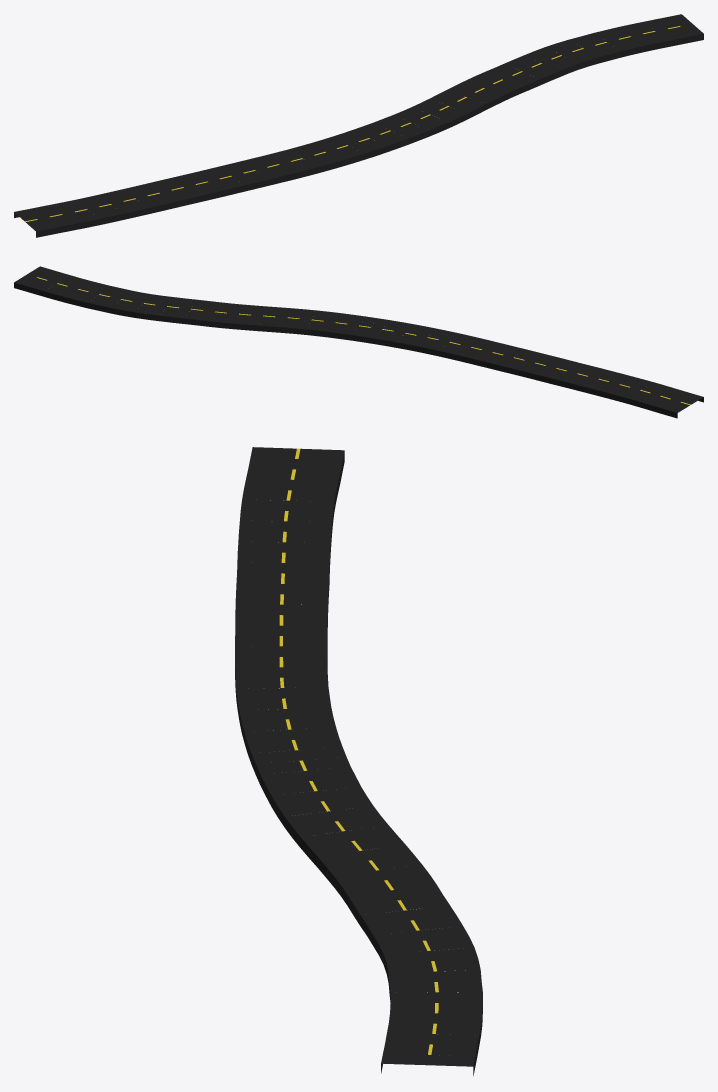
File: Road3.fbx
The picture shows the model from 3 angles, top to bottom: view 1: azimuth 30°, elevation 25°; view 2: azimuth 150°, elevation 25°; view 3: azimuth 270°, elevation 25°; orthographic projection. The views are drawn at different scales.
Parts seen in each view (by area): view 1: Cube; view 2: Cube; view 3: Cube.
Boxes of the visible parts, left/top/right/bottom form: Cube: left=14, top=14, right=703, bottom=237; Cube: left=14, top=266, right=703, bottom=418; Cube: left=235, top=447, right=482, bottom=1076.
Size of the model in its own units: 3582 by 30.12 by 605.
